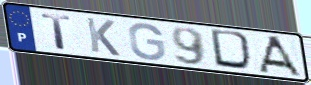9: (171, 26, 208, 66)
A: (257, 34, 304, 78)
D: (208, 27, 258, 73)
G: (126, 21, 167, 61)
K: (84, 16, 122, 58)
T: (39, 12, 74, 51)
